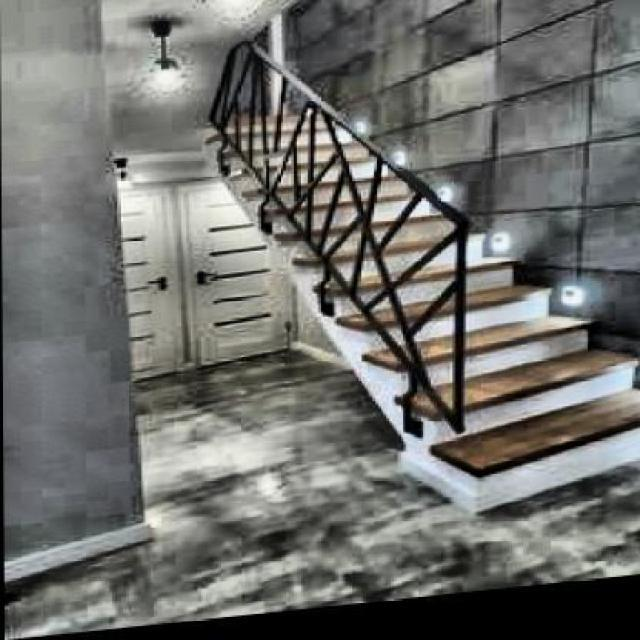stair: (191, 90, 638, 538)
